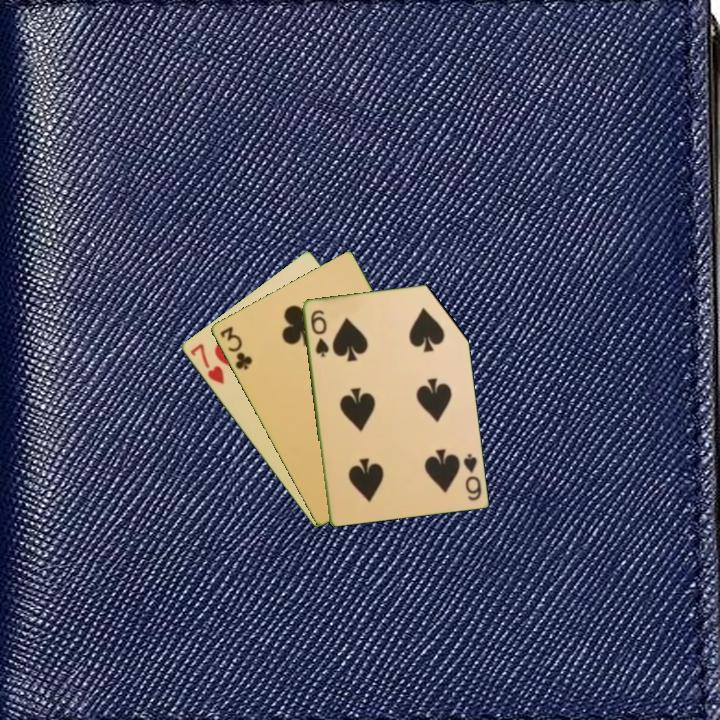3c: (216, 323, 255, 373)
6s: (307, 306, 332, 359), (459, 450, 484, 503)
7h: (186, 340, 227, 388)
